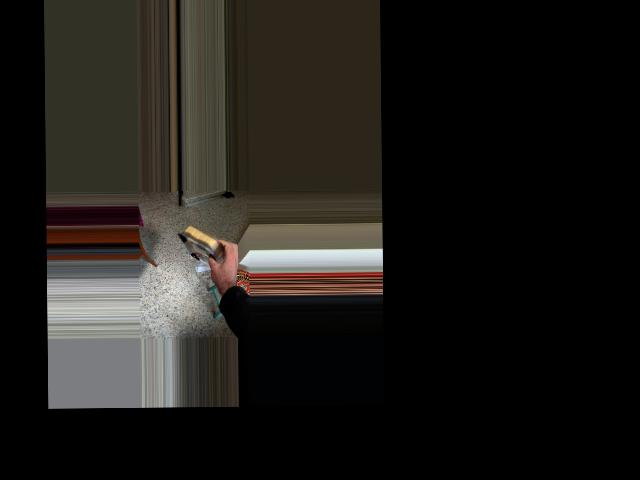cheese: (169, 215, 245, 276)
